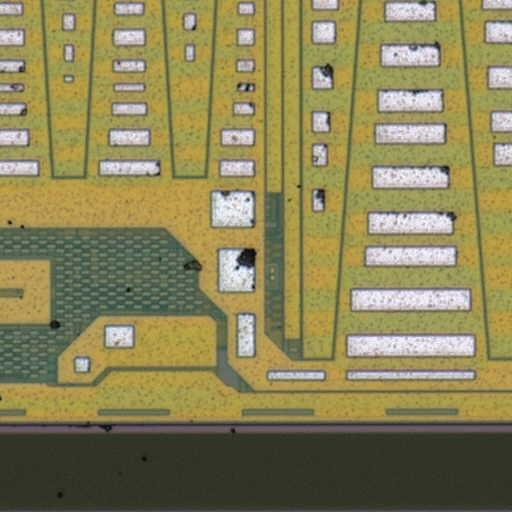PO CONTAMINATION: (1, 1, 447, 486)
